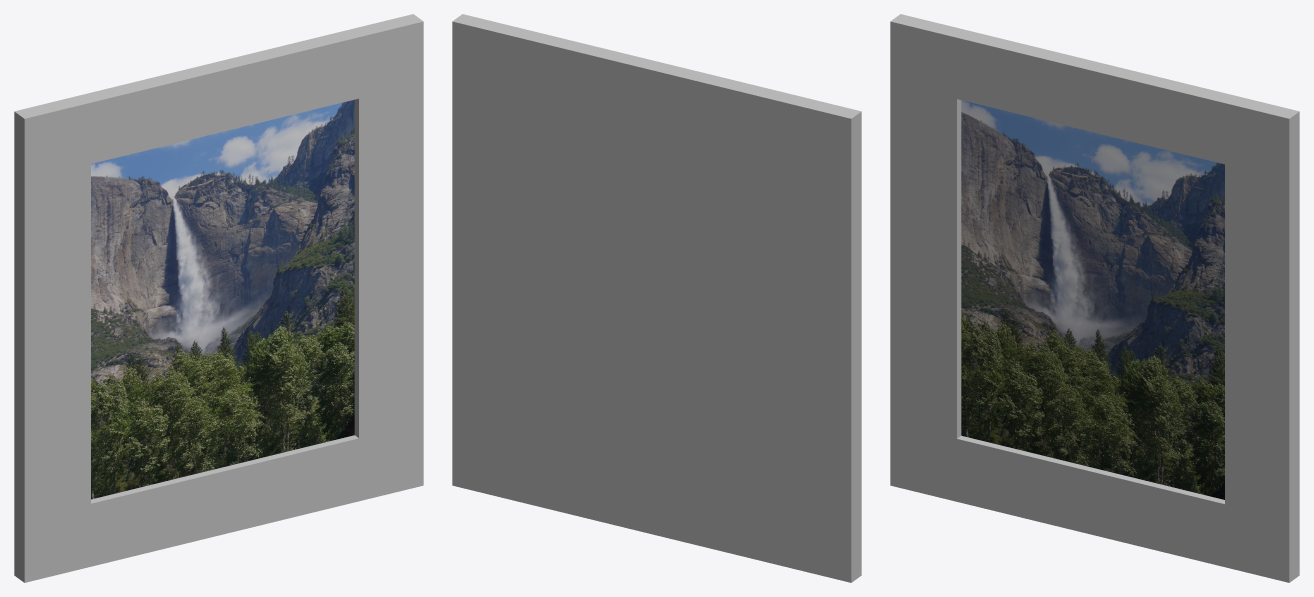
The model's file is Frame_05.FBX.
The picture shows the model from 3 angles, left to right: view 1: azimuth 30°, elevation 25°; view 2: azimuth 150°, elevation 25°; view 3: azimuth 330°, elevation 25°; orthographic projection.
Parts seen in each view (by area): view 1: Frame_05; view 2: Frame_05; view 3: Frame_05.
Part boxes in pixels (x1,y1,x2,y2): Frame_05: [14, 14, 423, 582]; Frame_05: [452, 14, 861, 582]; Frame_05: [890, 14, 1299, 582].
Size of the model in its own units: 810 by 36 by 900.
